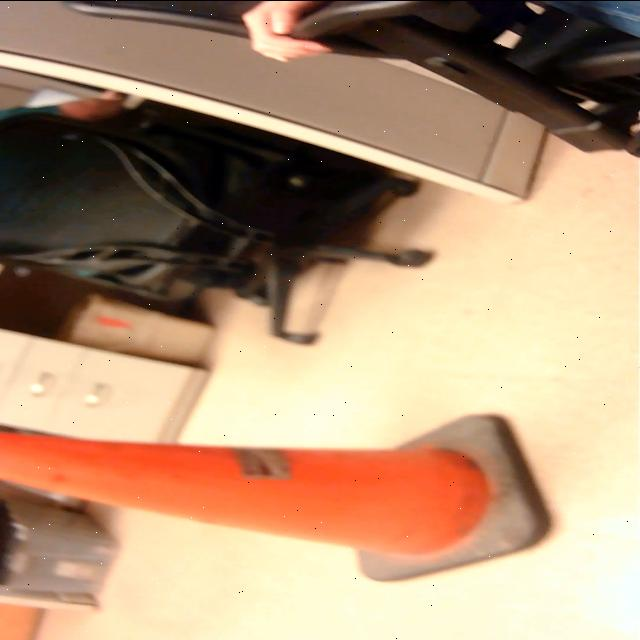traffic cone: (4, 405, 564, 586)
